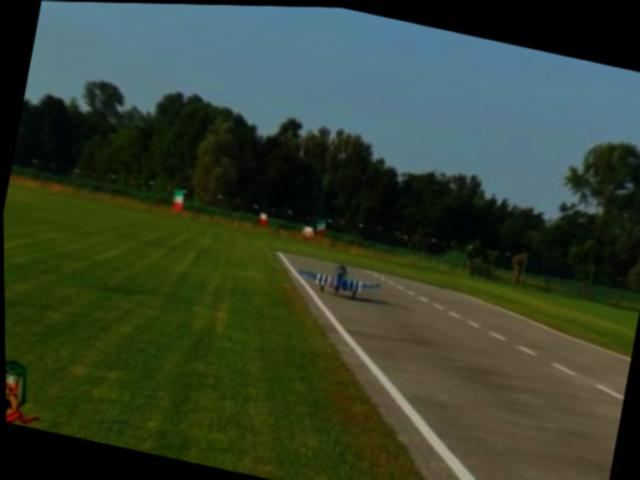uav: (292, 254, 383, 300)
